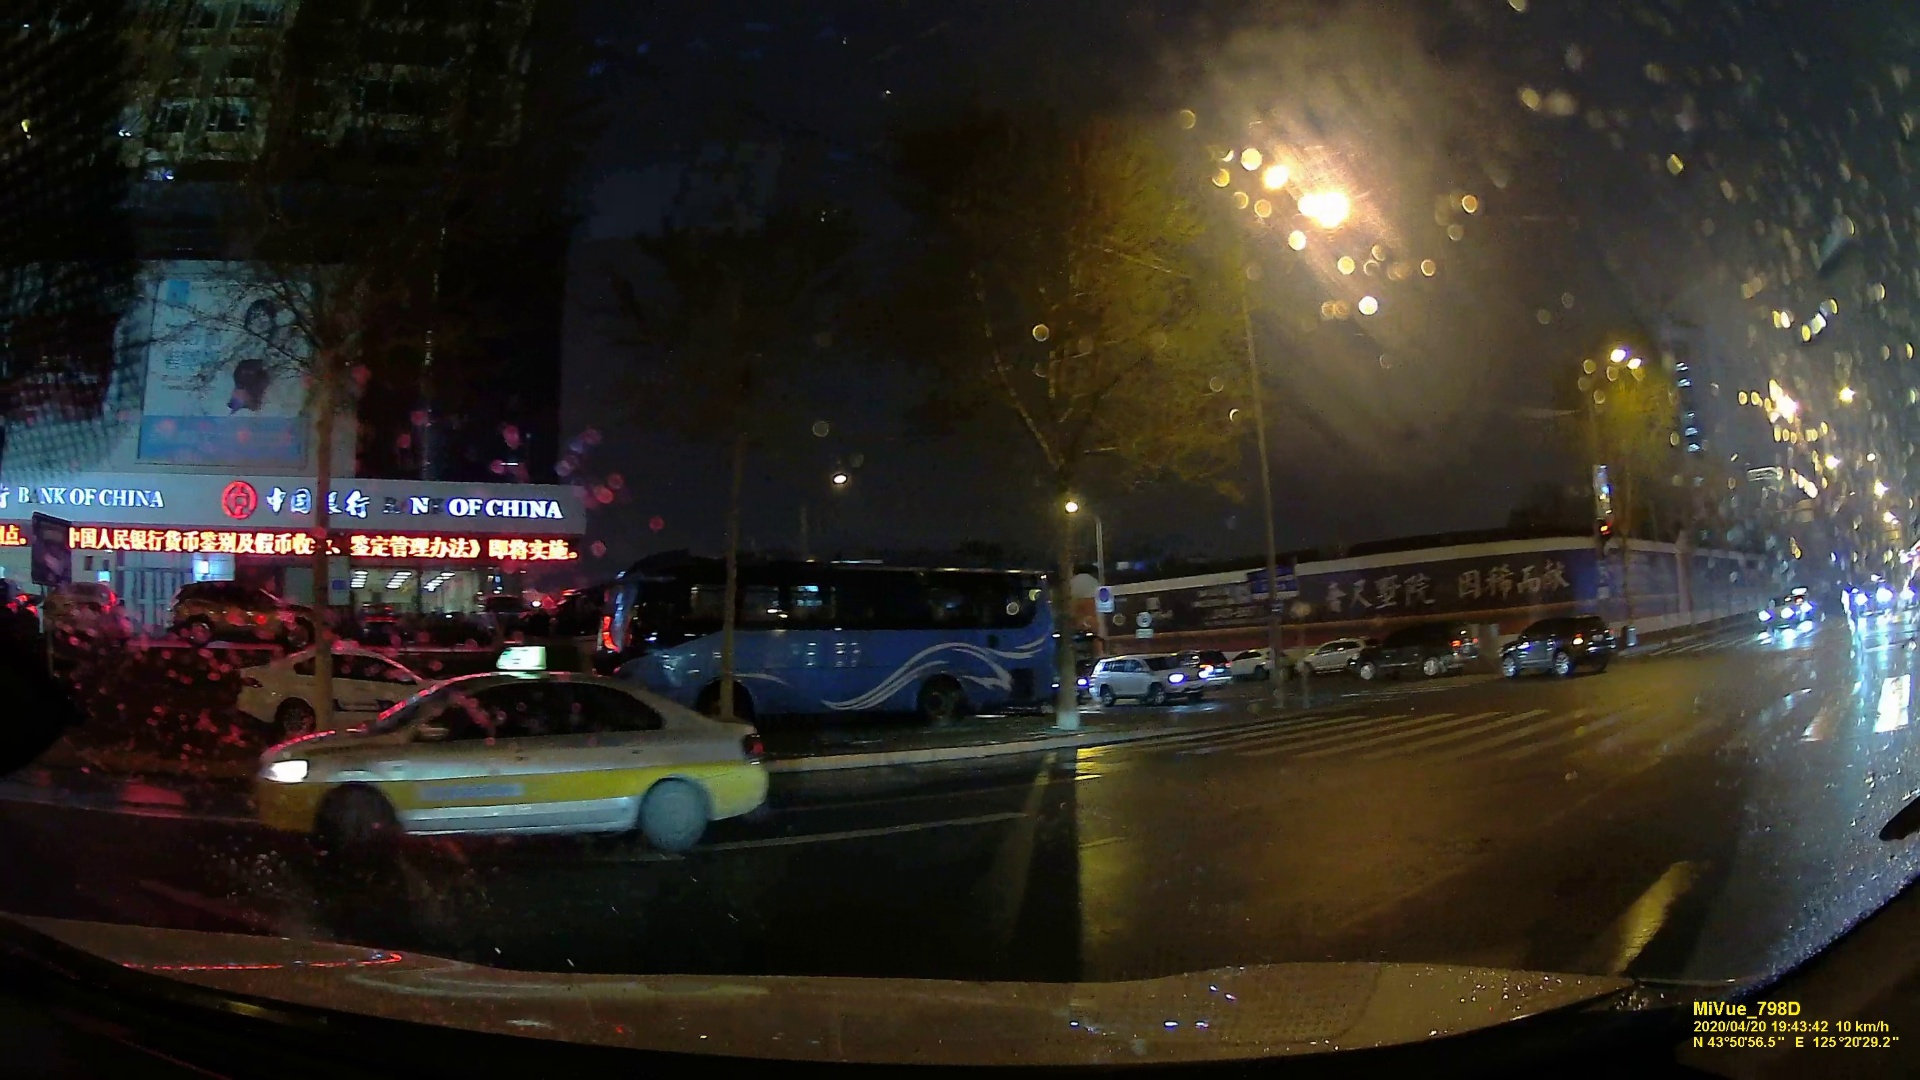bus: (597, 549, 1059, 728)
traffic_sign: (1597, 520, 1613, 551)
vehicle: (248, 665, 762, 876), (1501, 613, 1619, 676), (1357, 621, 1480, 679), (1091, 655, 1204, 709), (1756, 593, 1816, 629), (1847, 578, 1884, 615)
